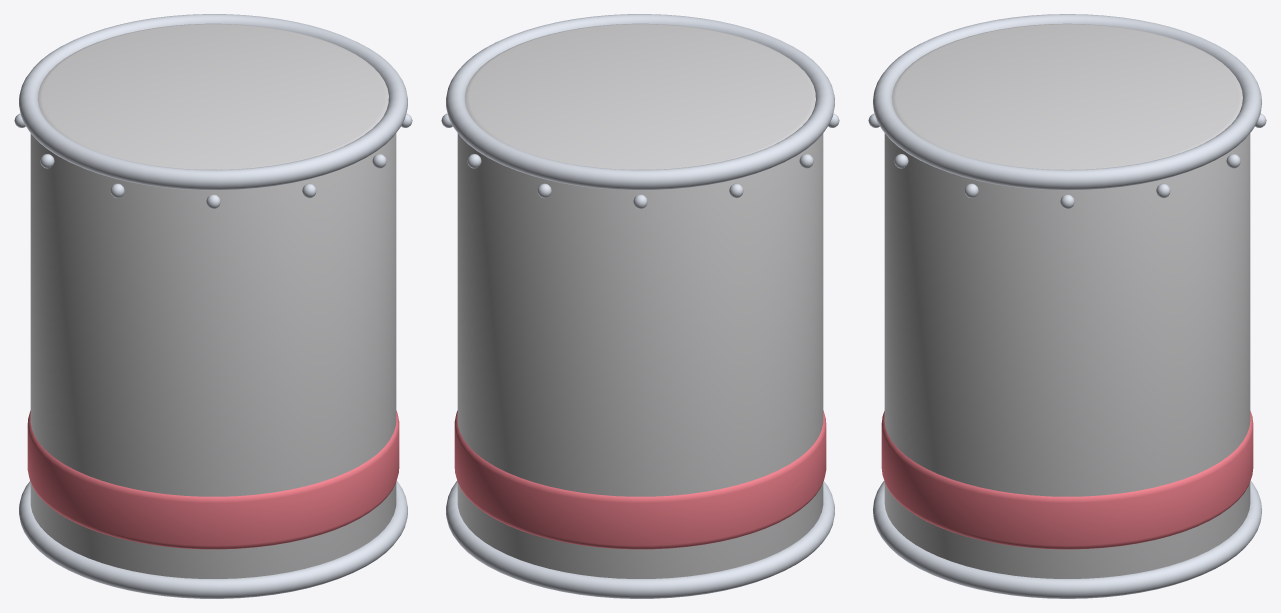
File: tank.glb
3 views of the same model, side by side, from view 1: azimuth 30°, elevation 25°; view 2: azimuth 150°, elevation 25°; view 3: azimuth 270°, elevation 25° (orthographic).
Visible parts, largest first — view 1: Tank; view 2: Tank; view 3: Tank.
Boxes of the visible parts, left/top/right/bottom form: Tank: left=14, top=14, right=412, bottom=598; Tank: left=441, top=14, right=839, bottom=598; Tank: left=868, top=14, right=1266, bottom=598.
Size of the model in its own units: 2.72 by 3.22 by 2.72.
